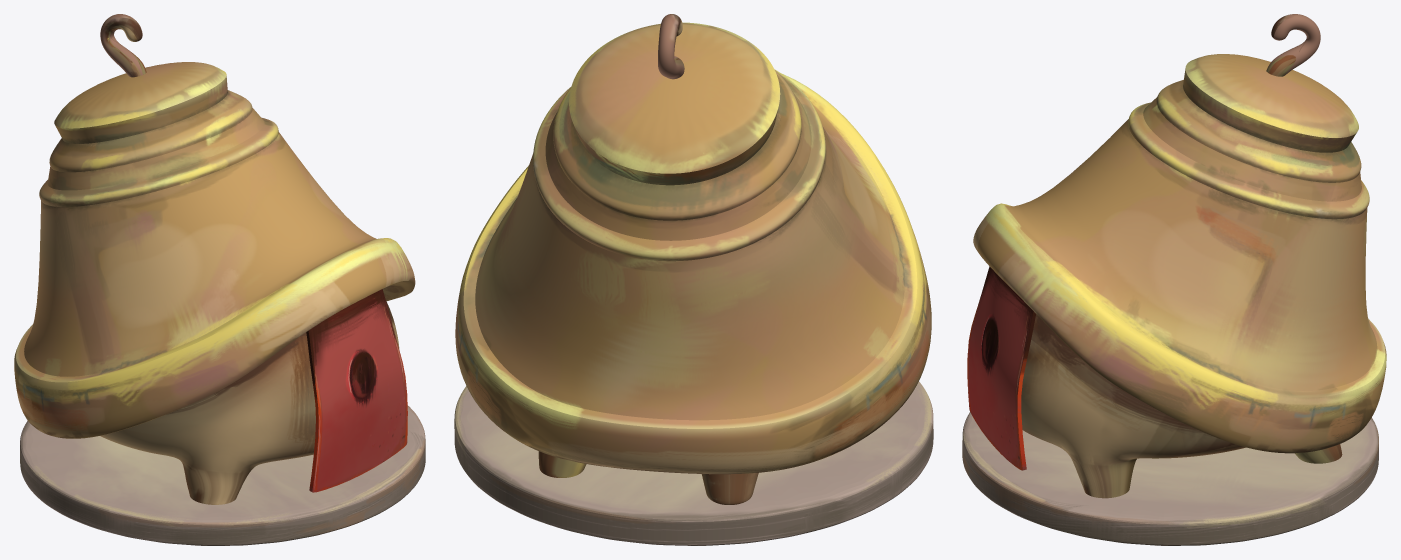
Rendered from rookb.glb.
3 views of the same model, side by side, from view 1: azimuth 30°, elevation 25°; view 2: azimuth 150°, elevation 25°; view 3: azimuth 270°, elevation 25° (orthographic). The views are drawn at different scales.
Visible parts, largest first — view 1: Cylinder.006, Circle.004, Cylinder.005, Plane.001, BezierCurve.008; view 2: Cylinder.006, Circle.004, Cylinder.005, BezierCurve.008; view 3: Cylinder.006, Circle.004, Cylinder.005, Plane.001, BezierCurve.008.
Part boxes in pixels (x1,y1,x2,y2): Cylinder.006: [14, 62, 415, 438]; Circle.004: [20, 405, 425, 545]; Cylinder.005: [100, 301, 399, 504]; Plane.001: [306, 289, 407, 492]; BezierCurve.008: [100, 14, 146, 77]; Cylinder.006: [455, 22, 931, 474]; Circle.004: [454, 381, 933, 545]; Cylinder.005: [538, 451, 758, 504]; BezierCurve.008: [658, 14, 684, 79]; Cylinder.006: [973, 54, 1386, 453]; Circle.004: [962, 412, 1378, 545]; Cylinder.005: [1021, 314, 1342, 498]; Plane.001: [967, 266, 1035, 470]; BezierCurve.008: [1266, 14, 1320, 76].
Bounding box in the file's own units: 0.8571 × 0.9675 × 0.8673.
Materials: 5 (5 with a texture image).
